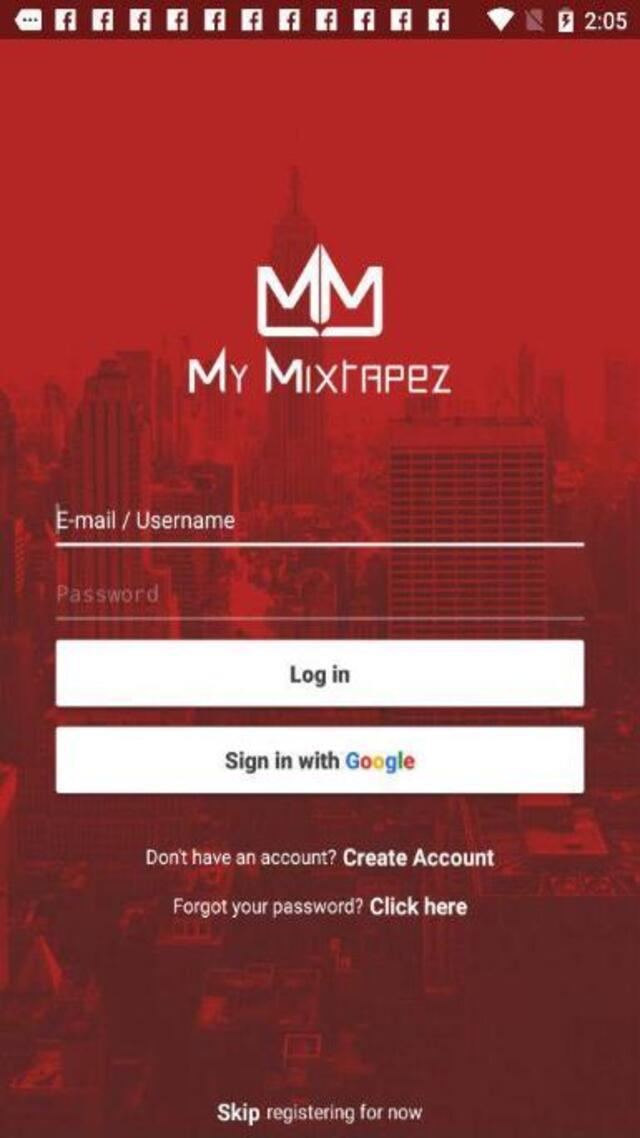Icon: (344, 750, 418, 775)
Image: (187, 241, 451, 396)
Text: (216, 1099, 422, 1124), (52, 508, 240, 532), (172, 896, 362, 917), (144, 845, 334, 866), (224, 748, 341, 775), (342, 847, 496, 867), (54, 580, 164, 605), (370, 894, 468, 915), (286, 661, 355, 688)
TextButton: (54, 726, 584, 794), (54, 638, 584, 706)
